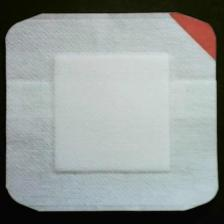Dressing: (5, 8, 220, 214)
Red_T: (168, 11, 224, 67)
